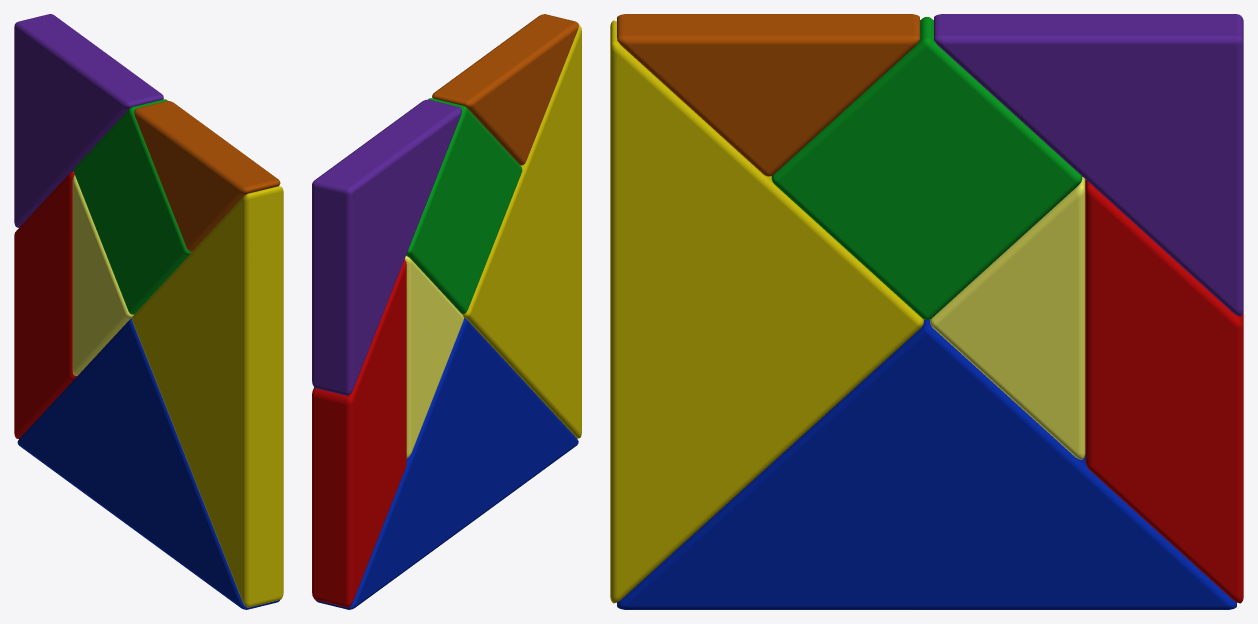
Rendered from Tangram.fbx.
3 renders of one model, left to right at view 1: azimuth 30°, elevation 25°; view 2: azimuth 150°, elevation 25°; view 3: azimuth 270°, elevation 25°, orthographic. The views are drawn at different scales.
Parts seen in each view (by area): view 1: Piece.005, Piece.006, Piece.002, Piece.007, Piece.004, Piece.001, Piece.003; view 2: Piece.005, Piece.006, Piece.002, Piece.004, Piece.007, Piece.001, Piece.003; view 3: Piece.005, Piece.006, Piece.002, Piece.007, Piece.004, Piece.001, Piece.003.
Part boxes in pixels (x1=…): Piece.005: x1=132, y1=186, x2=283, y2=607; Piece.006: x1=17, y1=318, x2=279, y2=609; Piece.002: x1=14, y1=14, x2=163, y2=227; Piece.007: x1=73, y1=99, x2=191, y2=314; Piece.004: x1=14, y1=171, x2=76, y2=438; Piece.001: x1=134, y1=100, x2=280, y2=251; Piece.003: x1=72, y1=175, x2=133, y2=375; Piece.005: x1=462, y1=24, x2=581, y2=438; Piece.006: x1=315, y1=318, x2=578, y2=609; Piece.002: x1=312, y1=99, x2=461, y2=395; Piece.004: x1=312, y1=259, x2=406, y2=607; Piece.007: x1=406, y1=98, x2=522, y2=313; Piece.001: x1=432, y1=14, x2=578, y2=165; Piece.003: x1=405, y1=256, x2=463, y2=458; Piece.005: x1=610, y1=20, x2=923, y2=603; Piece.006: x1=617, y1=319, x2=1236, y2=609; Piece.002: x1=934, y1=14, x2=1243, y2=316; Piece.007: x1=771, y1=17, x2=1082, y2=319; Piece.004: x1=1085, y1=179, x2=1243, y2=603; Piece.001: x1=617, y1=14, x2=919, y2=176; Piece.003: x1=930, y1=177, x2=1085, y2=459.
Bounding box in the file's own units: 60 × 600 × 600.
